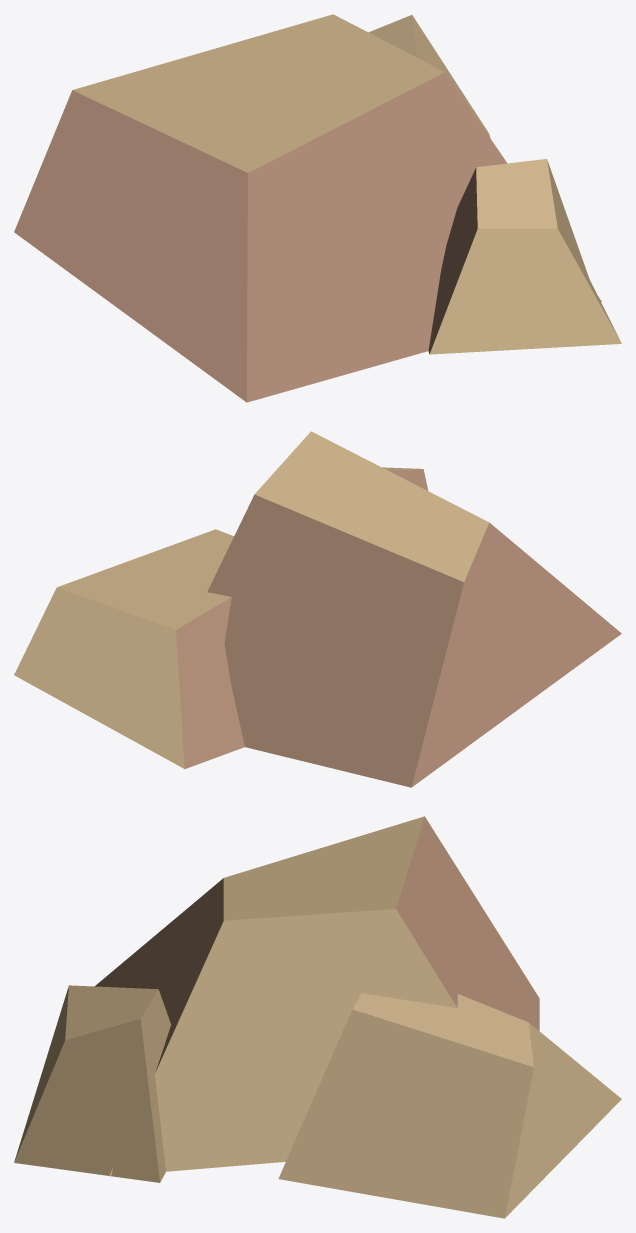
The model's file is desert_rocks_1.gltf.
3 views of the same model, one above another, from view 1: azimuth 30°, elevation 25°; view 2: azimuth 150°, elevation 25°; view 3: azimuth 270°, elevation 25° (orthographic). The views are drawn at different scales.
Parts seen in each view (by area): view 1: group2; view 2: group2; view 3: group2.
Part boxes in pixels (x1,y1,x2,y2): group2: [14, 14, 621, 402]; group2: [14, 431, 621, 787]; group2: [14, 816, 621, 1218].
Bounding box in the file's own units: 0.4253 × 0.1875 × 0.4962.
1 material, 1 textured.
